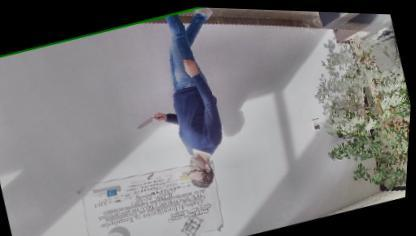knife: (132, 106, 169, 128)
